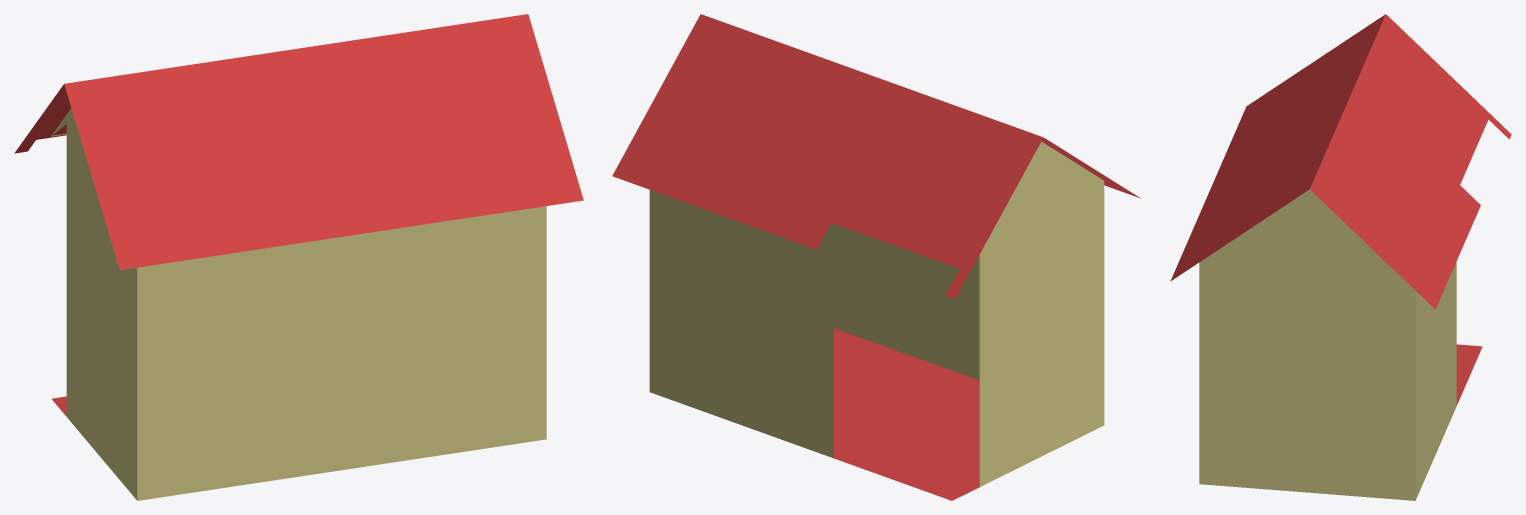
The picture shows the model from 3 angles, left to right: view 1: azimuth 30°, elevation 25°; view 2: azimuth 150°, elevation 25°; view 3: azimuth 270°, elevation 25°; orthographic projection. The views are drawn at different scales.
Size of the model in its own units: 18.59 by 13.69 by 13.9.
